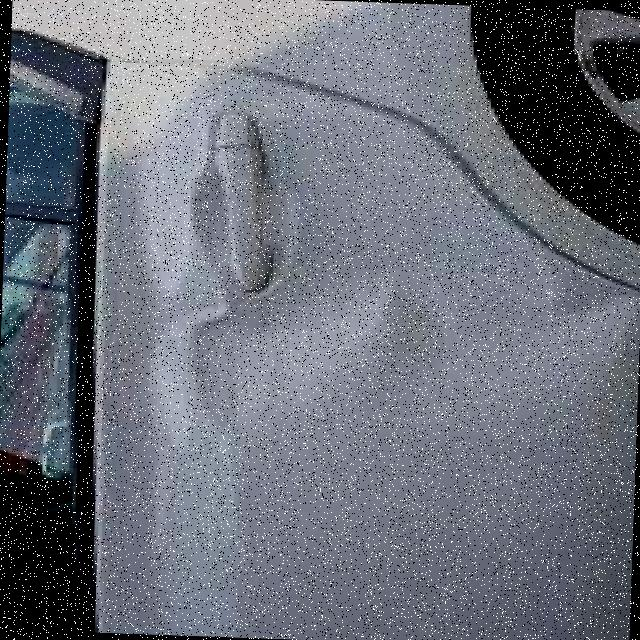Dent: (109, 130, 637, 468)
